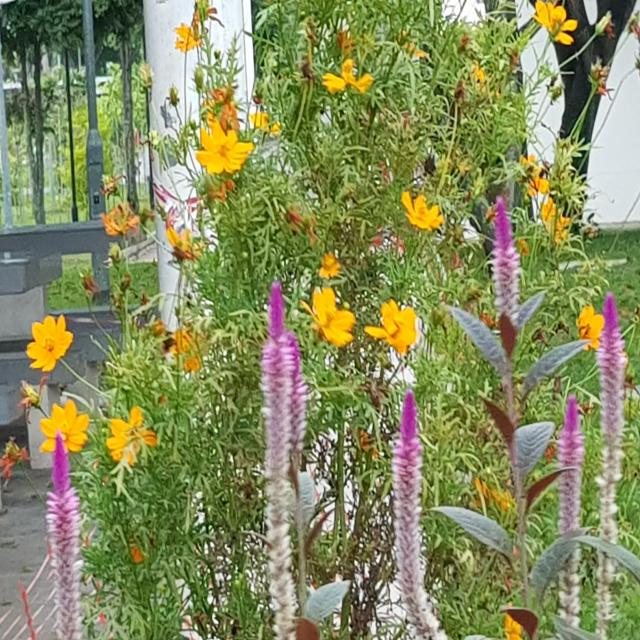Celosia-Argentea: (242, 247, 298, 640), (374, 396, 454, 640), (592, 296, 634, 640), (544, 377, 596, 640), (35, 427, 90, 640), (480, 197, 534, 346), (276, 314, 311, 456)
